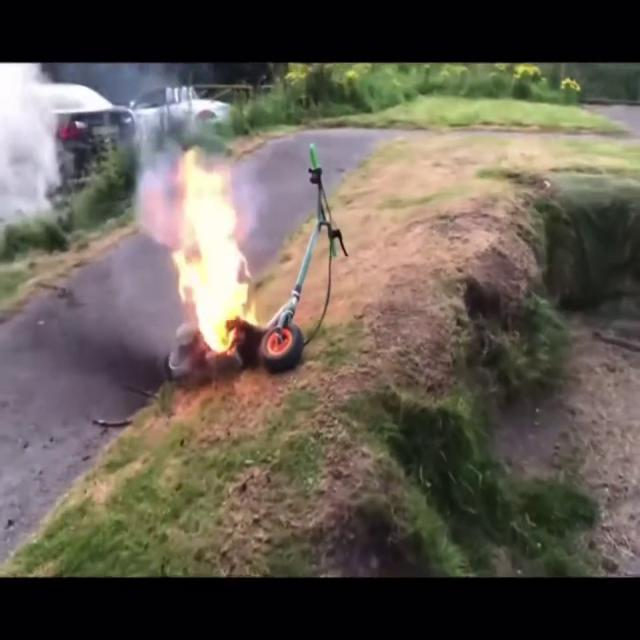Fire: (165, 140, 265, 363)
Smoke: (76, 108, 194, 362), (0, 59, 67, 221)
